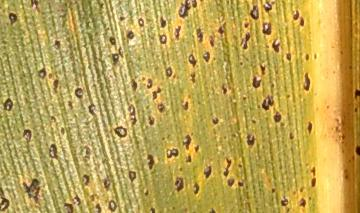tarspot: (22, 177, 41, 204), (84, 101, 97, 125), (126, 103, 138, 128), (110, 44, 125, 64), (1, 185, 11, 213), (177, 1, 191, 20), (240, 31, 252, 53), (261, 94, 275, 112), (112, 125, 128, 139), (173, 176, 186, 193), (172, 23, 183, 43), (181, 133, 193, 151), (270, 36, 282, 54), (165, 146, 180, 160), (47, 142, 59, 159), (21, 128, 33, 144), (194, 25, 204, 44), (302, 71, 311, 92), (223, 157, 232, 177), (158, 12, 168, 30), (7, 11, 18, 27), (261, 21, 272, 37), (249, 4, 259, 21), (245, 133, 257, 147), (250, 75, 262, 89), (151, 86, 162, 101), (146, 153, 155, 171), (187, 52, 197, 68), (207, 32, 217, 48), (62, 201, 75, 213), (103, 174, 112, 191), (202, 165, 212, 180), (3, 97, 13, 112), (107, 198, 117, 213), (188, 69, 198, 84), (157, 32, 167, 47), (305, 120, 314, 136), (129, 77, 138, 93), (123, 29, 136, 40), (73, 87, 84, 99), (36, 67, 47, 79), (71, 194, 82, 206), (52, 38, 62, 51), (127, 169, 137, 182), (81, 174, 91, 187), (272, 111, 282, 124), (201, 51, 211, 64), (117, 14, 130, 24), (52, 78, 60, 94), (257, 63, 266, 77), (296, 197, 307, 208), (192, 181, 200, 196), (183, 152, 193, 164), (146, 114, 156, 126), (156, 102, 166, 114), (280, 194, 289, 207), (263, 1, 272, 14), (164, 65, 173, 78), (292, 9, 300, 23), (180, 100, 190, 111), (227, 176, 236, 188), (353, 87, 360, 102), (298, 15, 305, 30), (146, 77, 154, 90), (309, 177, 318, 188), (309, 165, 317, 177), (66, 99, 74, 111), (59, 125, 67, 137), (220, 84, 228, 96), (137, 17, 145, 29), (94, 203, 103, 213), (192, 143, 200, 154), (284, 51, 292, 62), (217, 24, 225, 35), (288, 131, 296, 141), (211, 116, 219, 126), (108, 36, 116, 46), (312, 51, 319, 62), (206, 206, 217, 213), (354, 144, 360, 156), (29, 1, 39, 8), (250, 117, 257, 127), (143, 186, 149, 197), (236, 180, 244, 188), (279, 121, 287, 129), (284, 92, 292, 100), (191, 1, 198, 10), (243, 21, 250, 30), (144, 103, 151, 112), (304, 52, 310, 62), (299, 185, 305, 195), (50, 115, 57, 123), (255, 103, 262, 111), (270, 186, 276, 195), (47, 72, 53, 81), (269, 81, 275, 90), (240, 95, 247, 102), (149, 205, 155, 213), (353, 105, 358, 114), (178, 166, 184, 173), (159, 135, 165, 142), (238, 61, 244, 67), (237, 163, 242, 169)
